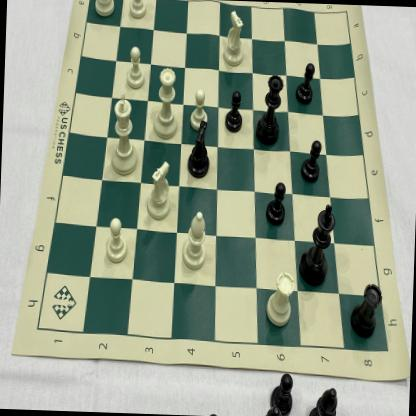black-king: (298, 203, 338, 292)
black-knight: (185, 119, 212, 178)
black-pawn: (264, 180, 288, 227), (298, 138, 322, 184), (222, 89, 246, 135), (295, 61, 317, 107)
black-queen: (255, 74, 285, 148)
black-rook: (348, 281, 382, 341)
white-bishop: (180, 210, 209, 272)
white-king: (107, 91, 142, 177)
white-knight: (146, 158, 174, 221)
white-pawn: (104, 216, 130, 266), (125, 44, 147, 90), (188, 88, 210, 132), (127, 0, 148, 21)
white-queen: (150, 64, 180, 142)
white-rook: (264, 266, 296, 331), (91, 0, 117, 20)
